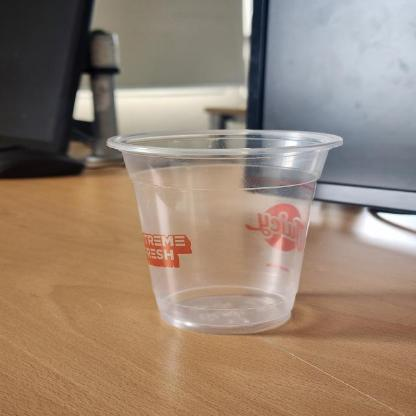Plastic Cup: (107, 128, 345, 335)
